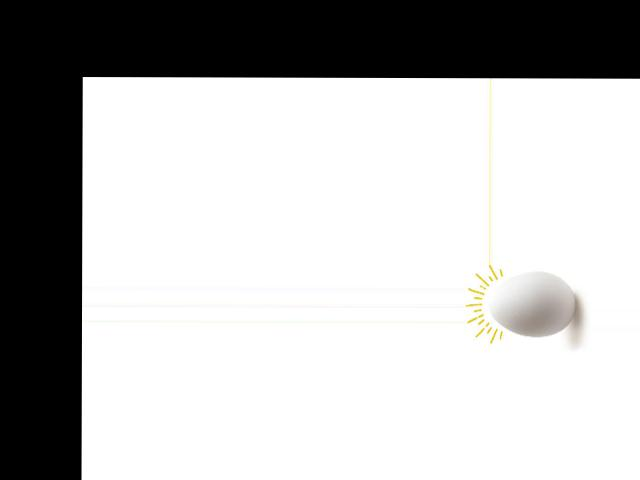egg: (489, 270, 575, 336)
